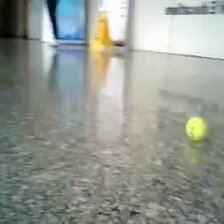tennis: (185, 116, 206, 141)
